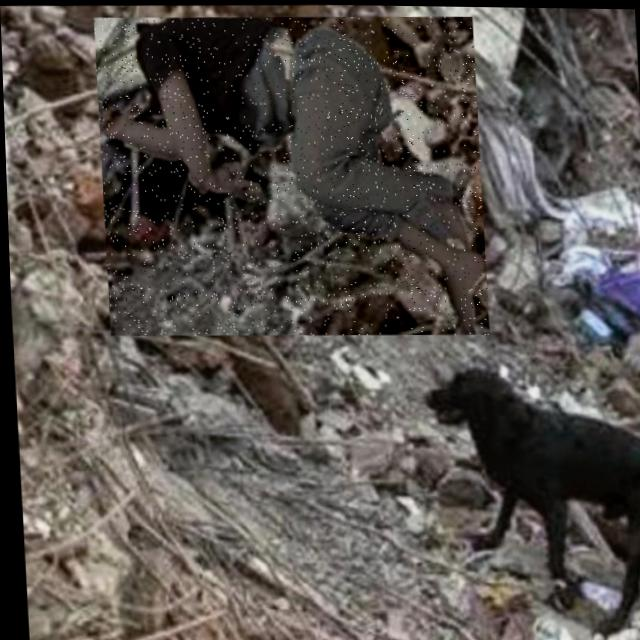Person in Rubble: (93, 10, 487, 340)
